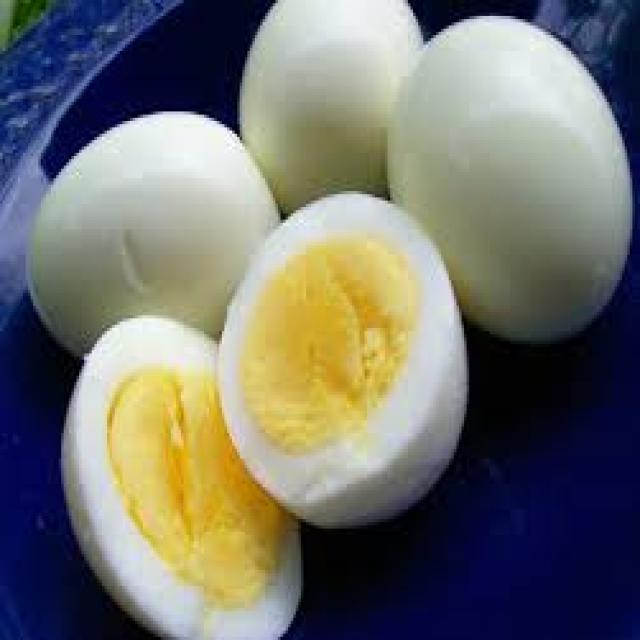boiled egg: (220, 192, 469, 528), (388, 16, 632, 343), (62, 316, 303, 639), (26, 112, 280, 356), (240, 0, 423, 213)
